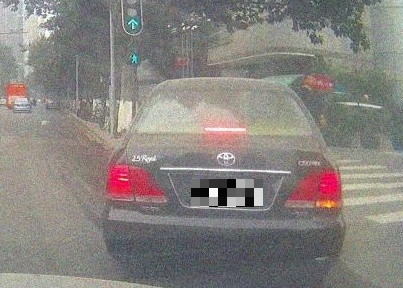L_light: (105, 166, 168, 203)
R_light: (283, 169, 342, 208)
T_light: (203, 126, 247, 133)
day-brake: (102, 77, 346, 281)
plate_1: (191, 179, 263, 207)
